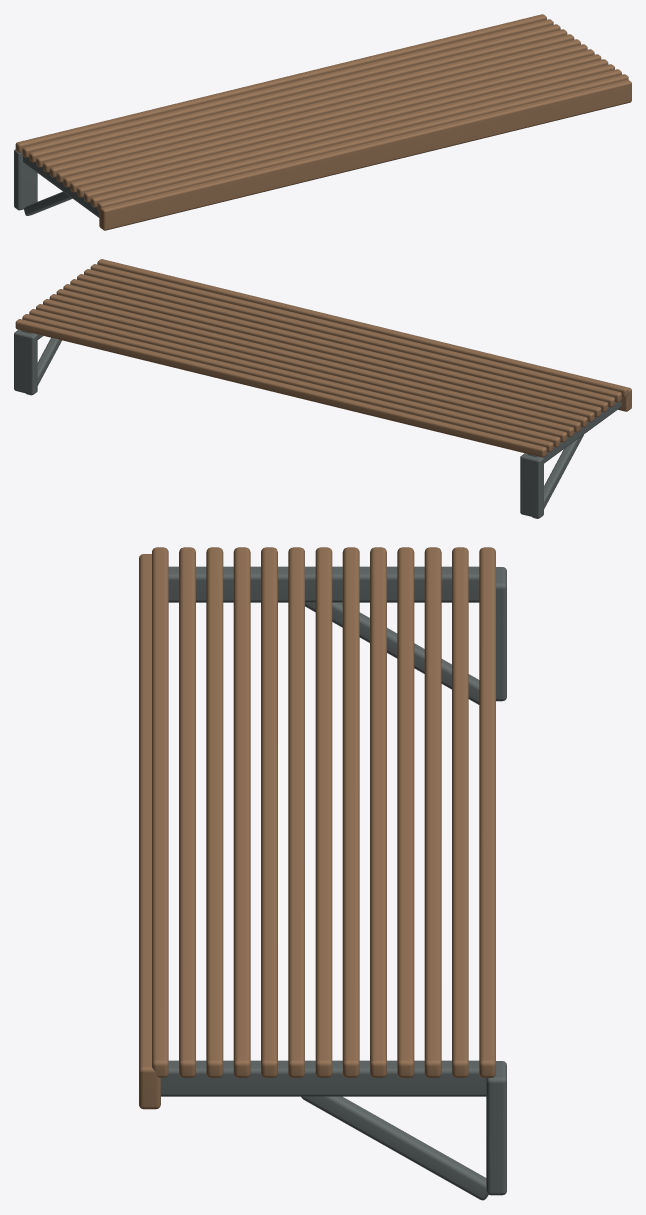
File: canopy_louvre.glb
3 views of the same model, one above another, from view 1: azimuth 30°, elevation 25°; view 2: azimuth 150°, elevation 25°; view 3: azimuth 270°, elevation 25° (orthographic). The views are drawn at different scales.
Visible parts, largest first — view 1: Front fascia, Timber sun-control slat.006, Timber sun-control slat.007, Timber sun-control slat, Timber sun-control slat.001, Timber sun-control slat.011, Timber sun-control slat.005, Timber sun-control slat.003, Timber sun-control slat.008, Timber sun-control slat.002, Timber sun-control slat.009, Timber sun-control slat.004 (+5 smaller); view 2: Timber sun-control slat, Timber sun-control slat.002, Timber sun-control slat.003, Timber sun-control slat.007, Timber sun-control slat.008, Timber sun-control slat.011, Timber sun-control slat.001, Timber sun-control slat.006, Timber sun-control slat.012, Timber sun-control slat.004, Timber sun-control slat.009, Timber sun-control slat.005 (+6 smaller); view 3: Timber sun-control slat.005, Timber sun-control slat.003, Timber sun-control slat.009, Timber sun-control slat.010, Timber sun-control slat.002, Timber sun-control slat.006, Timber sun-control slat.004, Timber sun-control slat, Timber sun-control slat.001, Timber sun-control slat.007, Timber sun-control slat.008, Timber sun-control slat.011 (+8 smaller).
Boxes of the visible parts, x1,y1,x2,y2 form: Front fascia: (99,79,631,230); Timber sun-control slat.006: (56,44,587,182); Timber sun-control slat.007: (63,49,594,187); Timber sun-control slat: (15,14,546,152); Timber sun-control slat.001: (22,19,553,157); Timber sun-control slat.011: (90,69,621,207); Timber sun-control slat.005: (49,39,580,177); Timber sun-control slat.003: (36,29,567,167); Timber sun-control slat.008: (70,54,601,192); Timber sun-control slat.002: (29,24,560,162); Timber sun-control slat.009: (77,59,608,197); Timber sun-control slat.004: (43,34,574,172); Timber sun-control slat: (15,319,546,457); Timber sun-control slat.002: (29,309,560,447); Timber sun-control slat.003: (36,304,567,442); Timber sun-control slat.007: (63,284,594,422); Timber sun-control slat.008: (70,279,601,417); Timber sun-control slat.011: (90,264,621,402); Timber sun-control slat.001: (22,314,553,452); Timber sun-control slat.006: (56,289,587,427); Timber sun-control slat.012: (97,259,628,397); Timber sun-control slat.004: (43,299,574,437); Timber sun-control slat.009: (77,274,608,412); Timber sun-control slat.005: (49,294,580,432); Timber sun-control slat.005: (342,547,359,1077); Timber sun-control slat.003: (397,547,414,1077); Timber sun-control slat.009: (233,547,250,1077); Timber sun-control slat.010: (206,547,223,1077); Timber sun-control slat.002: (424,547,441,1077); Timber sun-control slat.006: (315,547,332,1077); Timber sun-control slat.004: (370,547,386,1077); Timber sun-control slat: (479,547,495,1077); Timber sun-control slat.001: (452,547,468,1077); Timber sun-control slat.007: (288,547,304,1077); Timber sun-control slat.008: (261,547,277,1077); Timber sun-control slat.011: (179,547,195,1077).
Bounding box in the file's own units: 4.7 × 0.6251 × 1.42.
